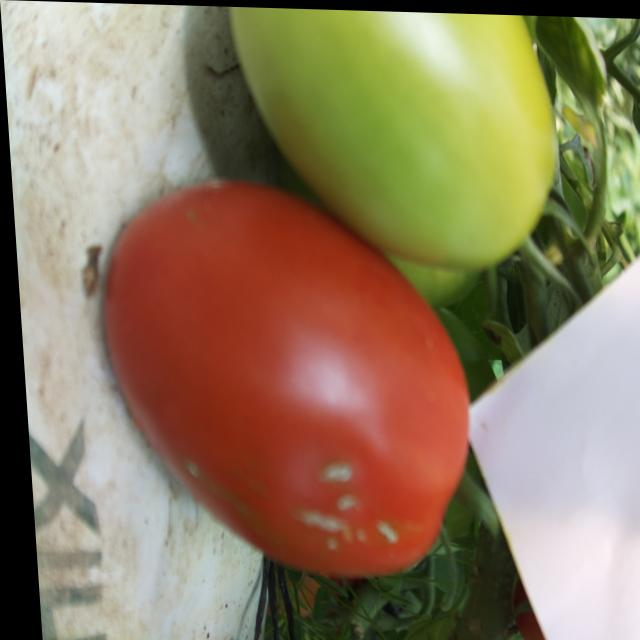kirmizi: (74, 174, 476, 592)
